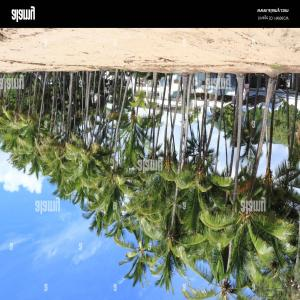palm tree: (0, 68, 300, 299)
